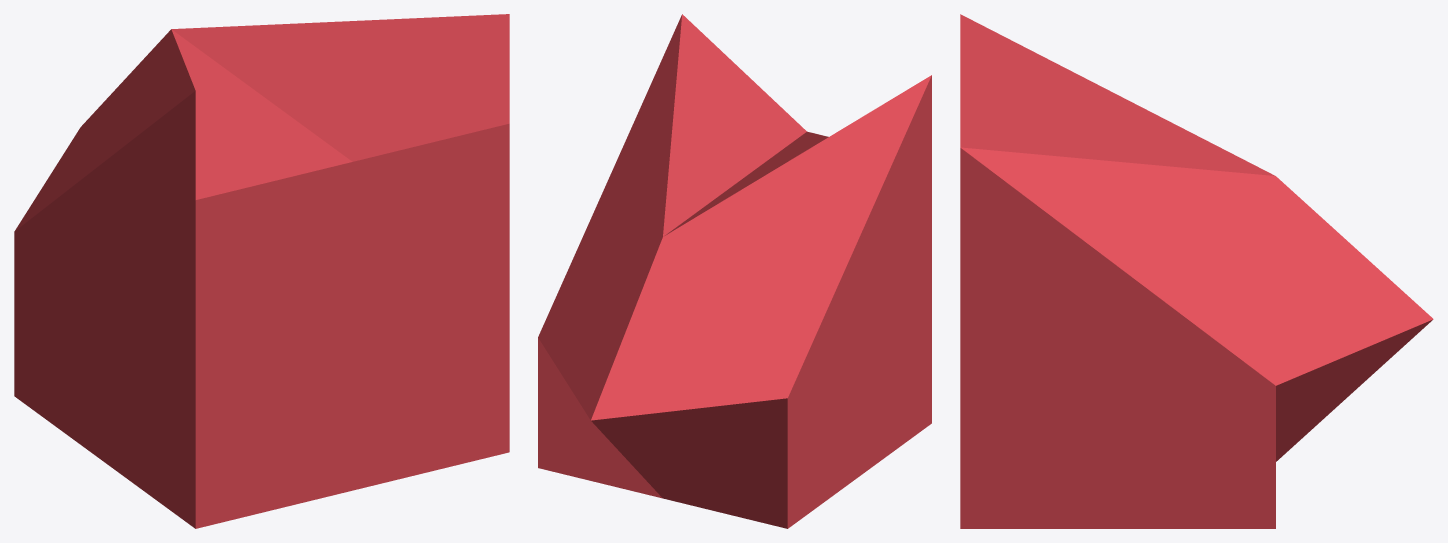
Rendered from MiniBug.glb.
The picture shows the model from 3 angles, left to right: view 1: azimuth 30°, elevation 25°; view 2: azimuth 150°, elevation 25°; view 3: azimuth 270°, elevation 25°; orthographic projection. The views are drawn at different scales.
Parts seen in each view (by area): view 1: MiniBug_0.014; view 2: MiniBug_0.014; view 3: MiniBug_0.014.
Boxes of the visible parts, x1,y1,x2,y2 form: MiniBug_0.014: (14, 14, 509, 528); MiniBug_0.014: (538, 14, 931, 528); MiniBug_0.014: (960, 14, 1433, 528).
Size of the model in its own units: 3 by 4 by 4.5.
